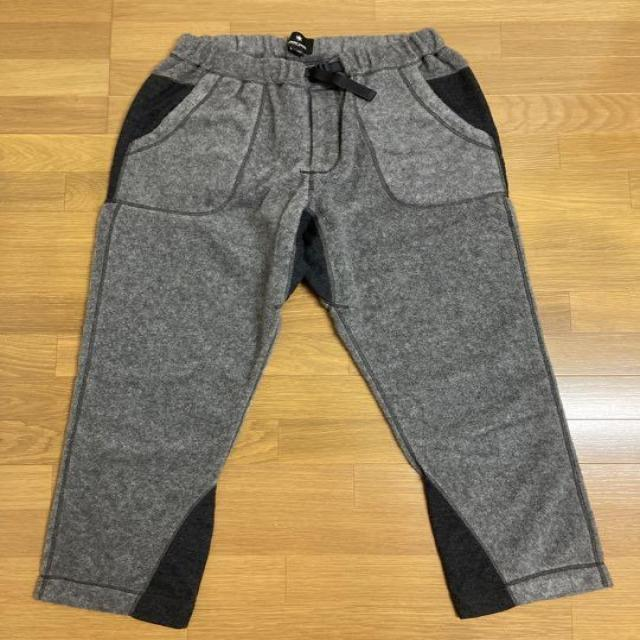long-pants: (29, 26, 614, 628)
